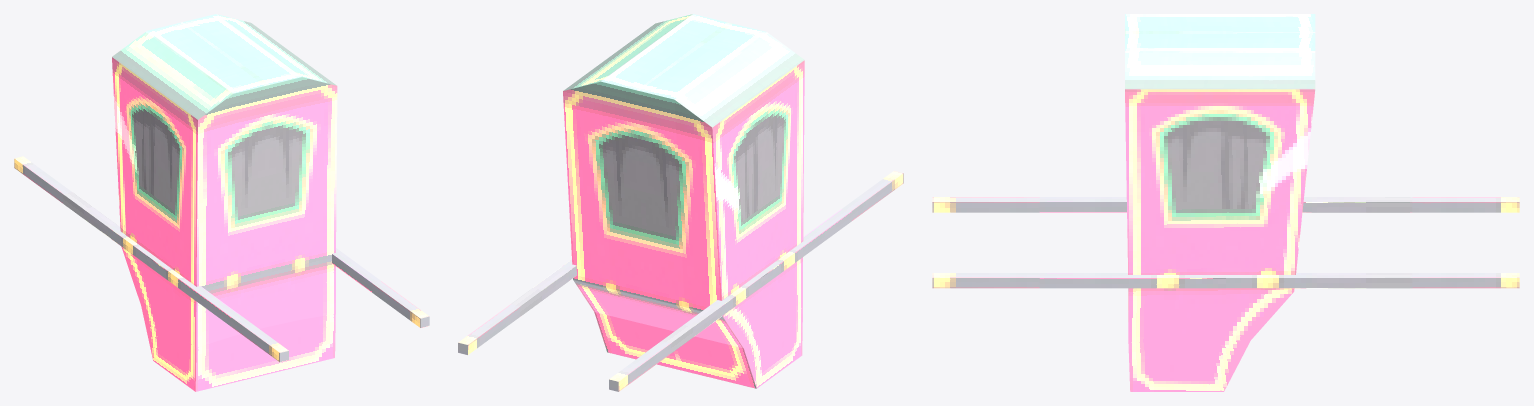
File: witchcart.glb
3 renders of one model, left to right at view 1: azimuth 30°, elevation 25°; view 2: azimuth 150°, elevation 25°; view 3: azimuth 270°, elevation 25°, orthographic. The views are drawn at different scales.
Visible parts, largest first — view 1: Cart; view 2: Cart; view 3: Cart.
Boxes of the visible parts, x1,y1,x2,y2 form: Cart: (14, 14, 429, 391); Cart: (458, 14, 903, 391); Cart: (932, 14, 1519, 391).
Bounding box in the file's own units: 0.908 × 1.69 × 2.79.
